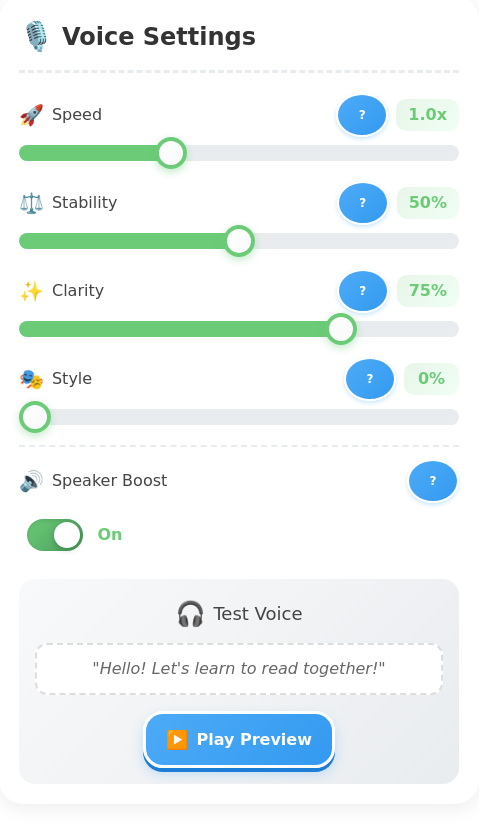
Test: VoiceParameterSliders › reset functionality › shows reset button when settings are changed
Set the slider with id "slider-speed" to "1.5". click: (310, 153)
box: [19,145,459,161]
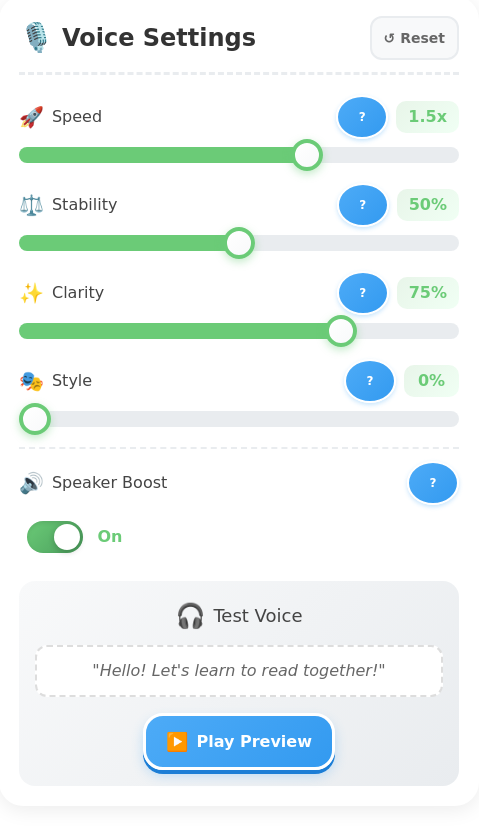
expect the button "↺ Reset" is shown: met, box [370,16,459,60]
